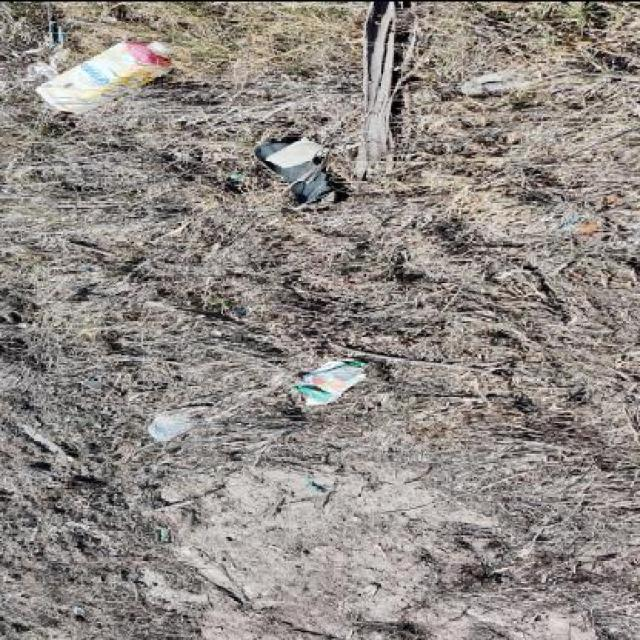cardboard: (34, 38, 174, 112), (290, 358, 368, 404), (265, 136, 330, 166)
